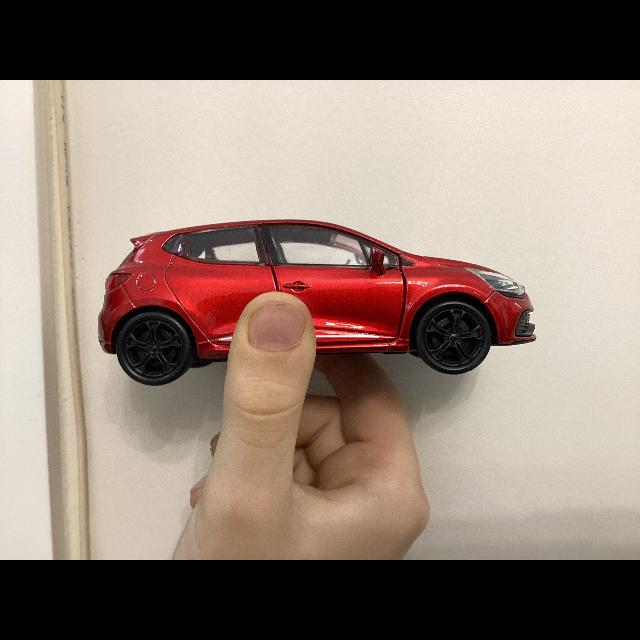Dogru_Jant: (423, 308, 482, 367), (125, 320, 182, 378)
